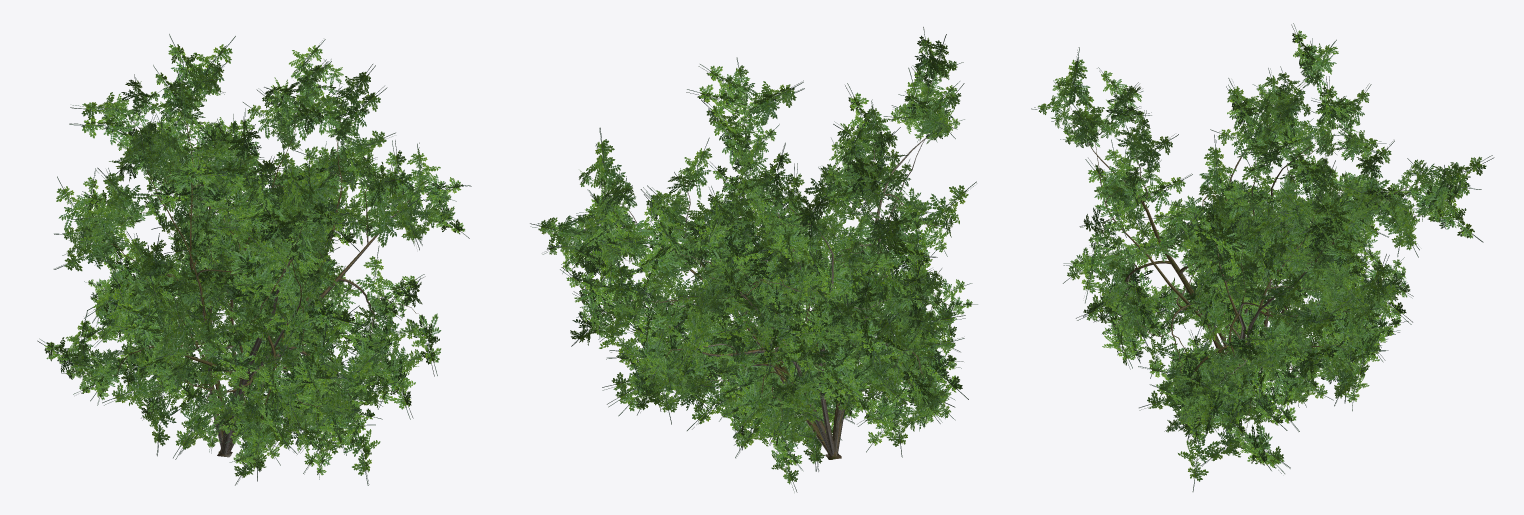
File: bush.glb
3 views of the same model, side by side, from view 1: azimuth 30°, elevation 25°; view 2: azimuth 150°, elevation 25°; view 3: azimuth 270°, elevation 25° (orthographic). The views are drawn at different scales.
Parts seen in each view (by area): view 1: tree; view 2: tree; view 3: tree.
Part boxes in pixels (x1,y1,x2,y2): tree: (37,34,471,485); tree: (530,27,977,492); tree: (1031,23,1494,491).
Bounding box in the file's own units: 2.07 × 2.01 × 2.15.
Materials: 2 (2 with a texture image).
